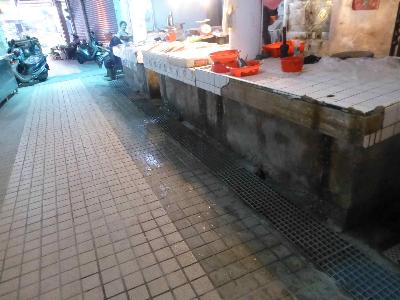bowl: (224, 59, 263, 78), (262, 38, 296, 58), (276, 53, 306, 74), (209, 48, 240, 64)
